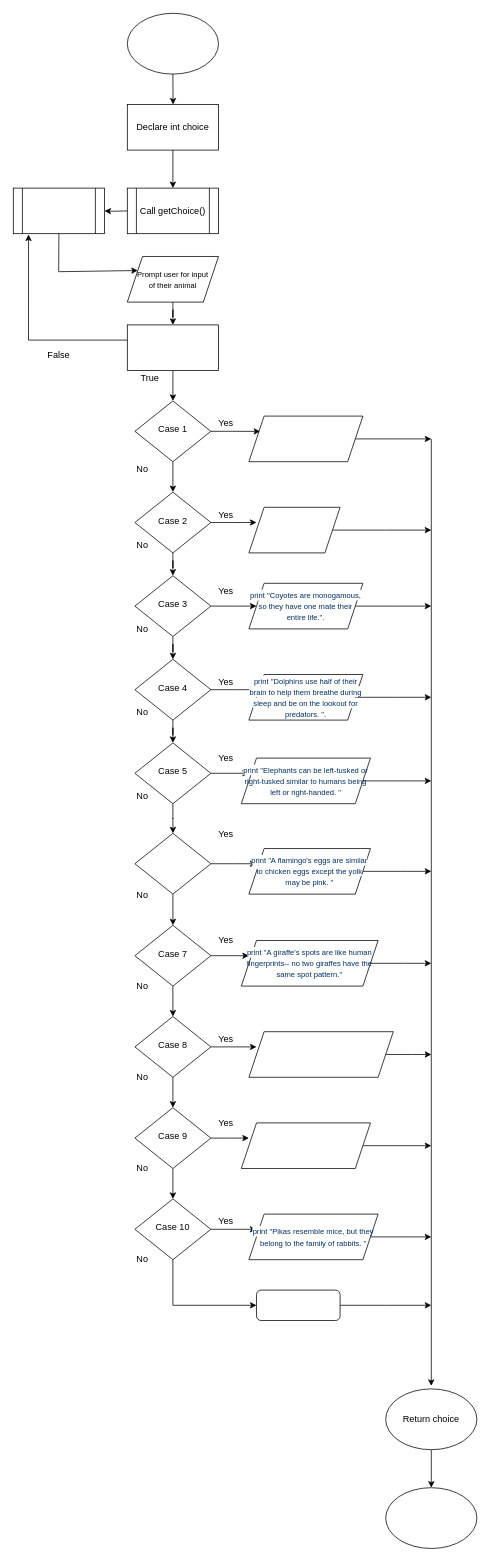
Some shapes in this 490 by 1562 pixel diagram are drawn without their labels. Here are the shapes that lost their labels. From the top down, the centre of each, then its label:
the point at 172,43: Start
the point at 58,210: Call animal()
the point at 172,347: Check if input is valid
the point at 305,438: print "Alpaca wool is flame-resistant and water-resistant.".
the point at 294,530: print "A bobcat's favorite meal is rabbit.".
the point at 172,863: Case 6
the point at 320,1054: print "A hamster's cheek pouches extend halfway down the length of their body. "
the point at 305,1145: print "Red pandas groom themselves similar to how cats do.".
the point at 298,1304: Default print "!"
the point at 431,1517: End
